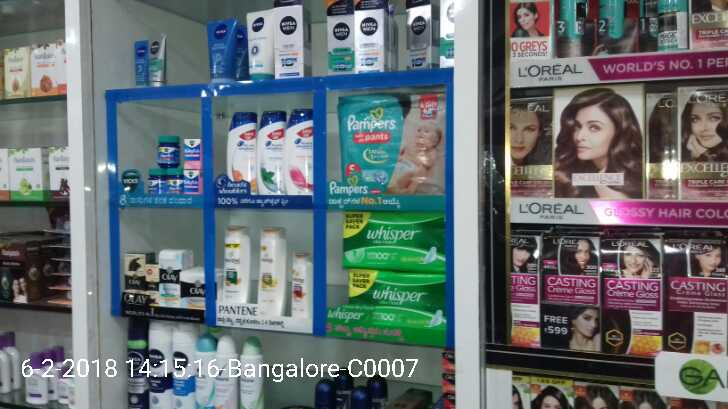beauty: (254, 227, 287, 316), (282, 104, 314, 190), (226, 110, 259, 191), (221, 225, 247, 313), (257, 112, 282, 194), (156, 247, 189, 305), (289, 253, 313, 323), (181, 272, 210, 310), (124, 252, 149, 296)
pharmacy: (338, 97, 449, 196), (342, 211, 450, 277), (342, 268, 449, 332), (154, 133, 183, 170), (180, 138, 205, 170), (147, 169, 166, 196), (183, 170, 202, 192)
